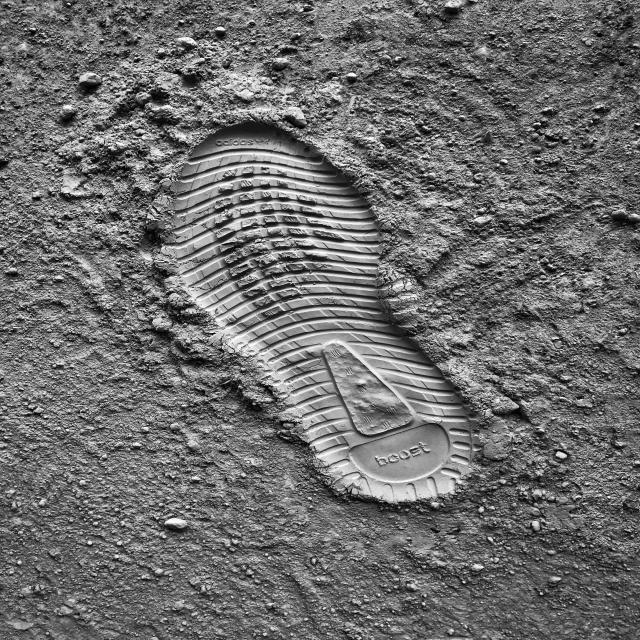human_footprint: (62, 78, 576, 570)
